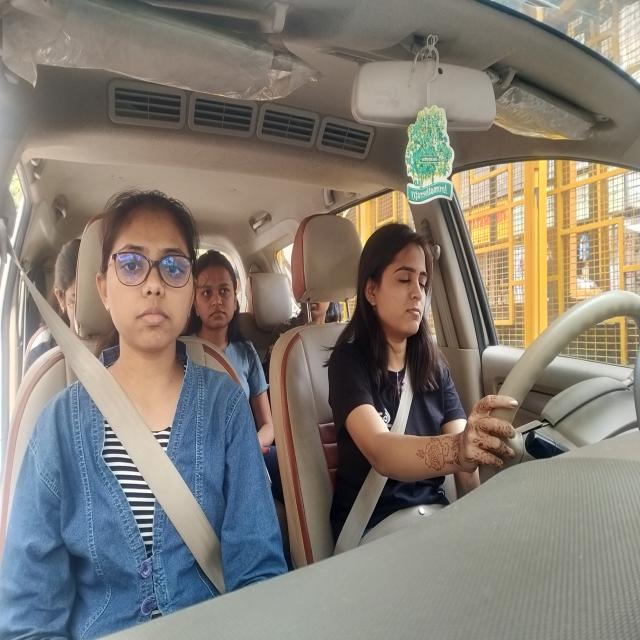drowsy: (357, 217, 438, 367)
person: (97, 183, 202, 372), (191, 239, 251, 361), (32, 224, 82, 354)
